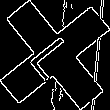L_NE: (26, 27, 84, 83)
